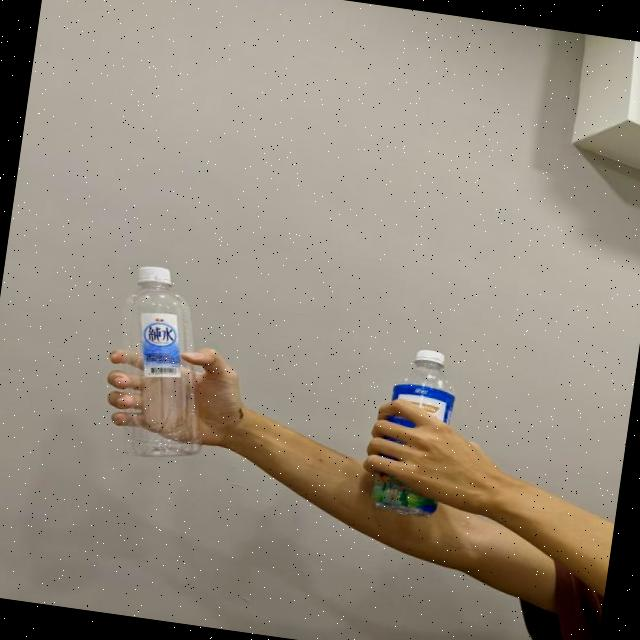bottle: (93, 258, 234, 468), (364, 342, 475, 524)
cap: (132, 258, 176, 292), (412, 343, 448, 372)
label: (372, 382, 452, 518), (112, 296, 202, 386)
